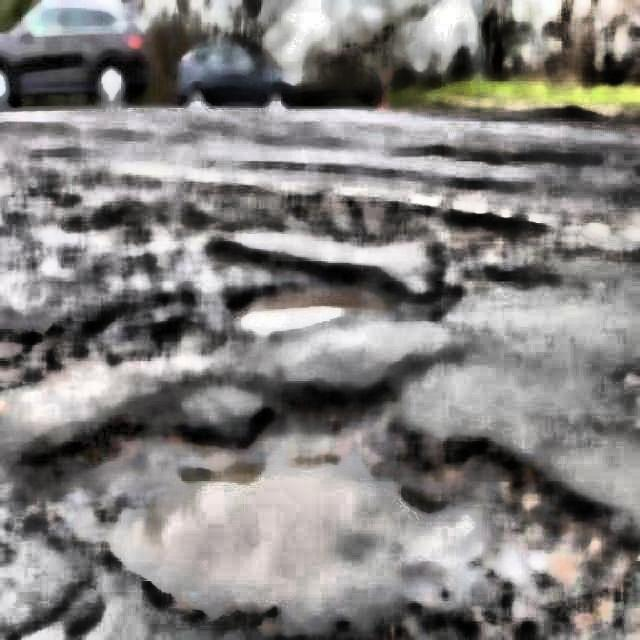buraco: (90, 420, 484, 605), (223, 261, 392, 334)
